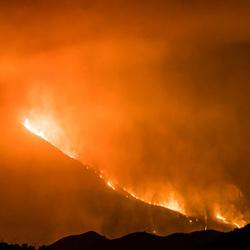fire: (26, 119, 48, 139), (164, 199, 179, 213)
